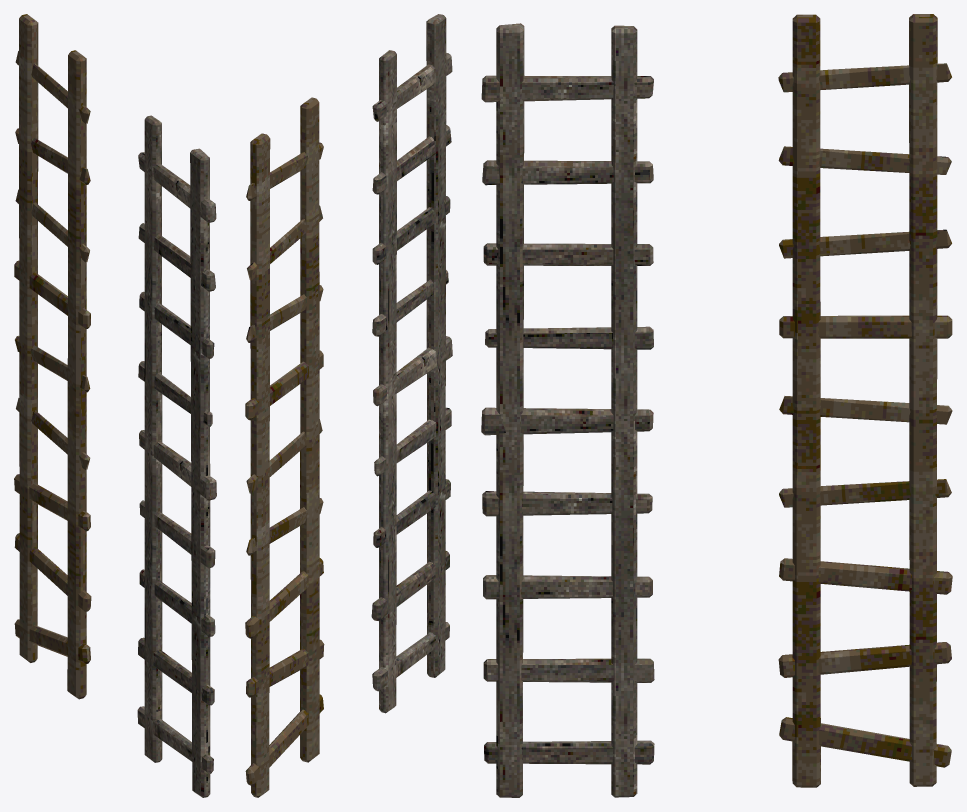
Rendered from ladders.fbx.
The picture shows the model from 3 angles, left to right: view 1: azimuth 30°, elevation 25°; view 2: azimuth 150°, elevation 25°; view 3: azimuth 270°, elevation 25°; orthographic projection. The views are drawn at different scales.
Parts seen in each view (by area): view 1: Ladder_A, Ladder_B; view 2: Ladder_A, Ladder_B; view 3: Ladder_A, Ladder_B.
Part boxes in pixels (box(x1,y1,x2,y2)): Ladder_A: box(137, 115, 216, 797); Ladder_B: box(14, 14, 91, 699); Ladder_A: box(371, 14, 452, 713); Ladder_B: box(245, 97, 324, 797); Ladder_A: box(481, 23, 654, 797); Ladder_B: box(778, 14, 952, 787).
Size of the model in its own units: 0.0385 by 2.03 by 1.11.
